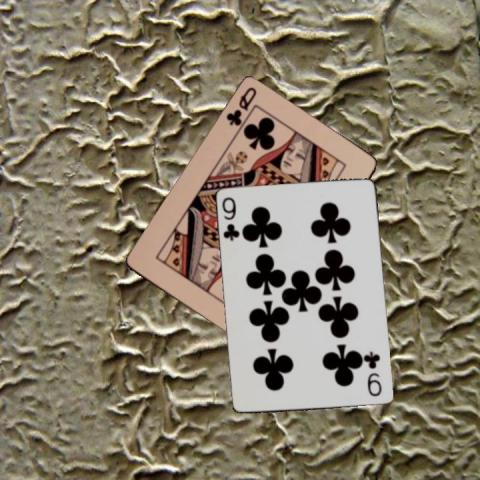9c: (220, 194, 242, 243), (365, 349, 383, 398)
Qc: (223, 85, 258, 128)
